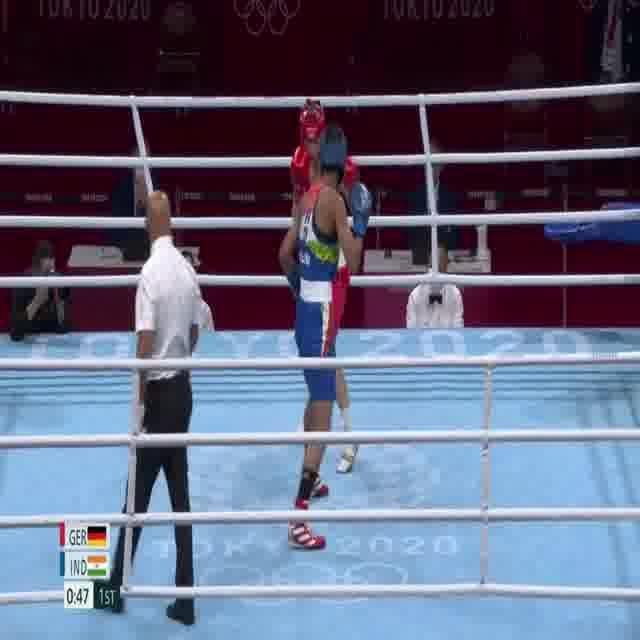blue-player: (277, 123, 373, 555)
red-player: (283, 99, 363, 480)
referee: (89, 190, 201, 630)
